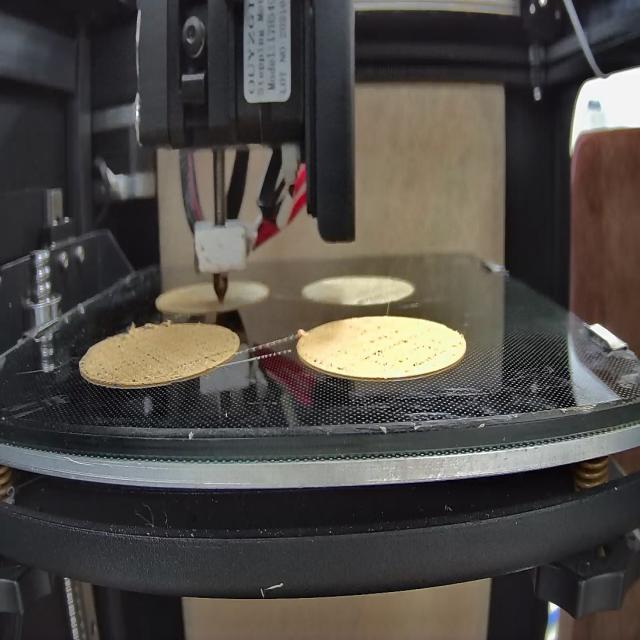under_extrusion: (365, 328, 441, 372), (97, 339, 166, 384), (179, 347, 228, 376), (310, 349, 349, 375)
